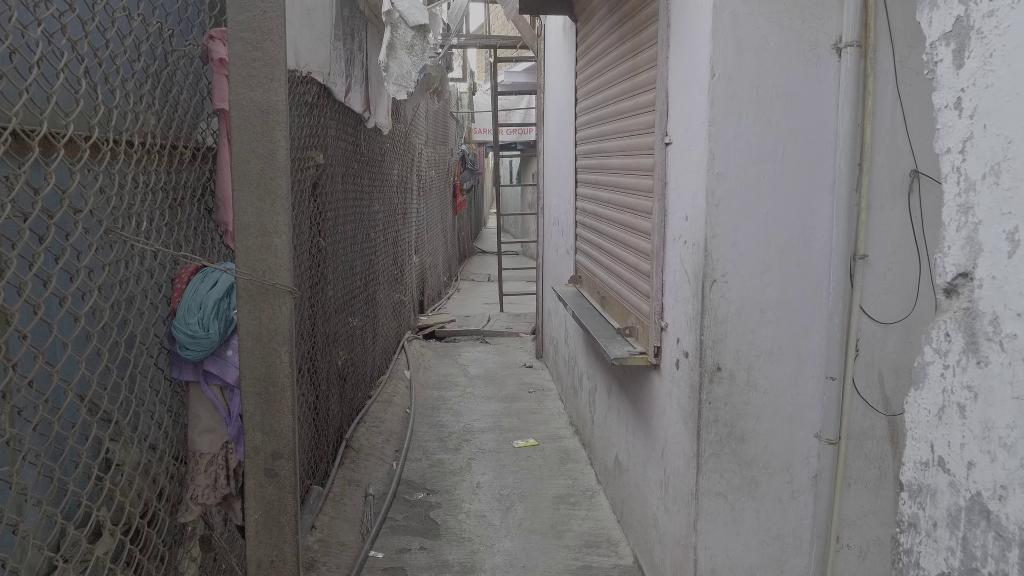garbage: (510, 438, 540, 450)
